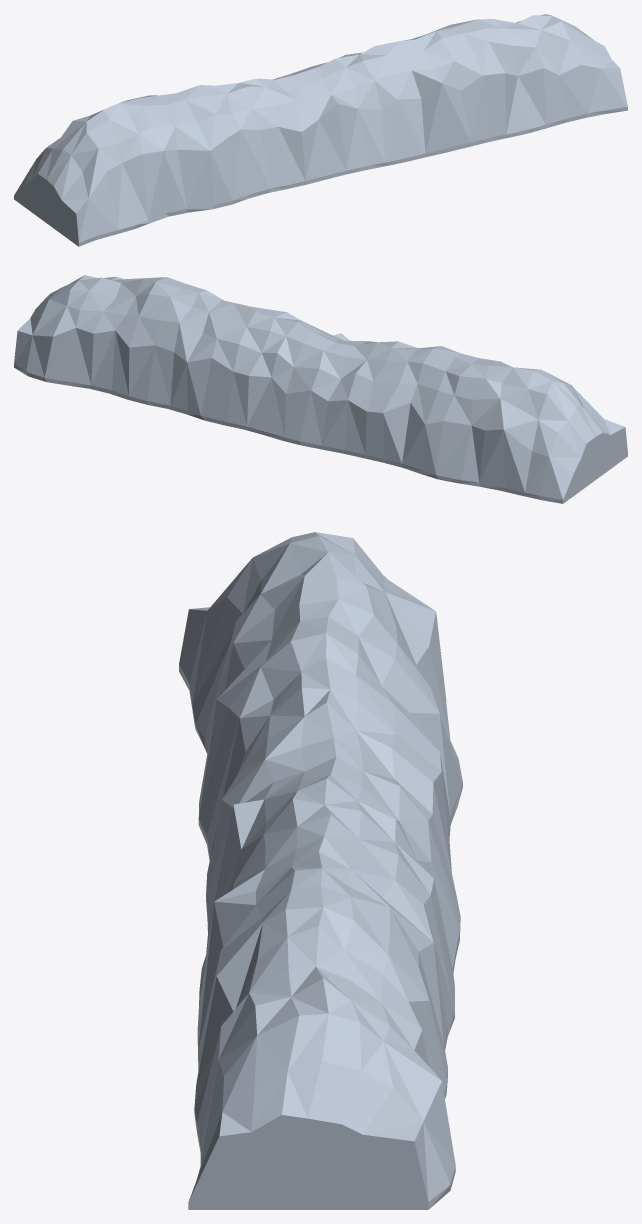
Rendered from Mush_Track_Snowbank_LowPoly.obj.
3 views of the same model, one above another, from view 1: azimuth 30°, elevation 25°; view 2: azimuth 150°, elevation 25°; view 3: azimuth 270°, elevation 25° (orthographic). The views are drawn at different scales.
Parts seen in each view (by area): view 1: Mush_Track_Snowbank_LowPoly; view 2: Mush_Track_Snowbank_LowPoly; view 3: Mush_Track_Snowbank_LowPoly.
Boxes of the visible parts, left/top/right/bottom form: Mush_Track_Snowbank_LowPoly: left=14, top=14, right=627, bottom=246; Mush_Track_Snowbank_LowPoly: left=14, top=275, right=627, bottom=503; Mush_Track_Snowbank_LowPoly: left=179, top=532, right=462, bottom=1209.
Size of the model in its own units: 12 by 2.03 by 2.67.
